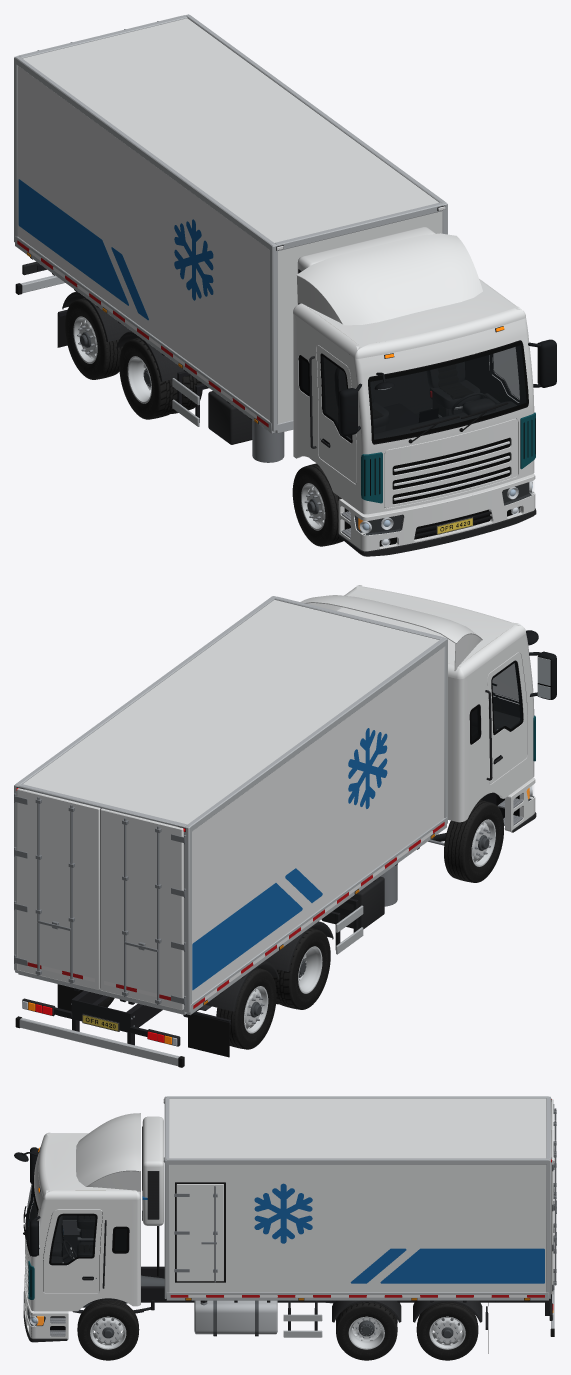
File: refrigerated-truck.glb
The picture shows the model from 3 angles, top to bottom: view 1: azimuth 30°, elevation 25°; view 2: azimuth 150°, elevation 25°; view 3: azimuth 270°, elevation 25°; orthographic projection. The views are drawn at different scales.
Visible parts, largest first — view 1: Body, Wheel_2_Right, Wheel_3_Right, Wheel_1_Right; view 2: Body, Door_Right, Door_Left, Wheel_1_Right, Wheel_2_Right, Wheel_3_Right; view 3: Body, Wheel_1_Left, Wheel_2_Left, Wheel_3_Left, Door_Left.
Boxes of the visible parts, left/top/right/bottom form: Body: left=14, top=14, right=556, bottom=556; Wheel_2_Right: left=119, top=337, right=202, bottom=419; Wheel_3_Right: left=65, top=298, right=122, bottom=379; Wheel_1_Right: left=292, top=463, right=343, bottom=546; Body: left=14, top=585, right=556, bottom=1067; Door_Right: left=100, top=808, right=186, bottom=1010; Door_Left: left=14, top=788, right=100, bottom=989; Wheel_1_Right: left=444, top=800, right=504, bottom=882; Wheel_2_Right: left=272, top=928, right=330, bottom=1009; Wheel_3_Right: left=216, top=967, right=276, bottom=1049; Body: left=14, top=1096, right=554, bottom=1353; Wheel_1_Left: left=77, top=1300, right=139, bottom=1360; Wheel_2_Left: left=336, top=1302, right=397, bottom=1360; Wheel_3_Left: left=416, top=1302, right=478, bottom=1360; Door_Left: left=551, top=1129, right=556, bottom=1294.
Size of the model in its own units: 3.12 by 3.76 by 9.14.
66 materials, 15 textured.
